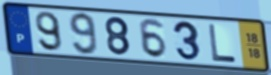3: (170, 19, 203, 63)
6: (138, 17, 169, 60)
8: (104, 16, 133, 58)
9: (68, 11, 101, 57), (33, 11, 65, 53)
L: (206, 23, 238, 64)
